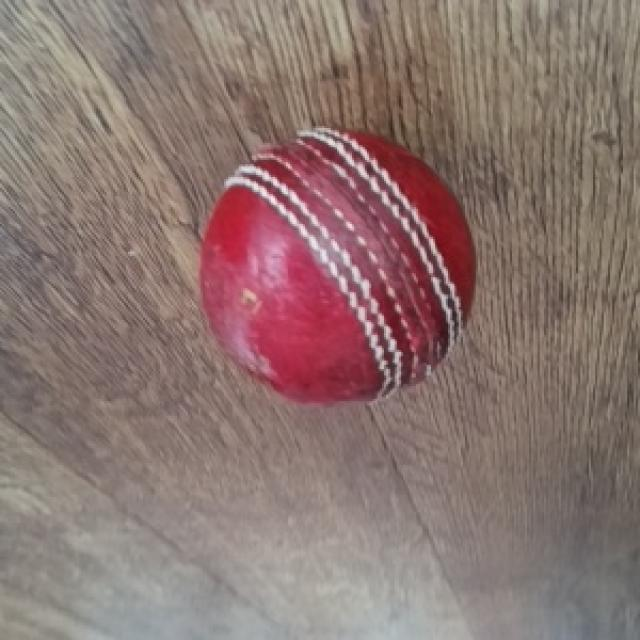ball: (198, 128, 478, 410)
